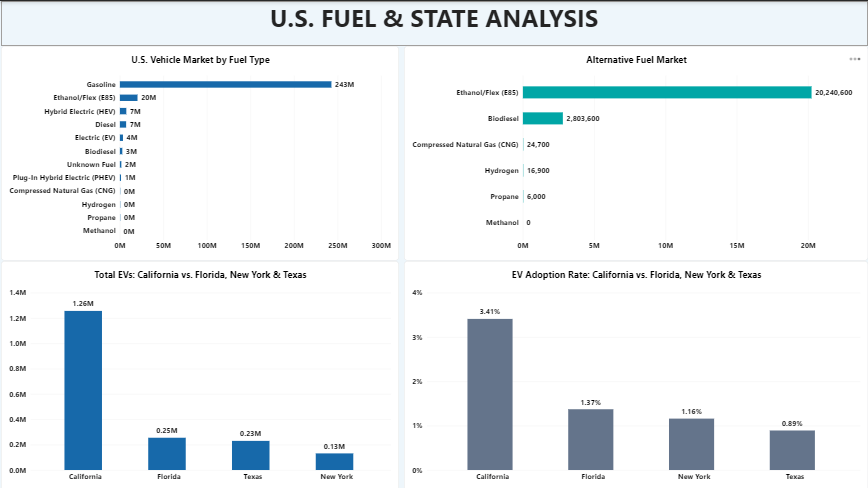

This screenshot's page, from the dashboard's own definition file:
{"tool":"powerbi","page":{"name":"Fuel & State Analysis","canvas":[1920,1080],"ordinal":1},"visuals":[{"type":"clusteredBarChart","title":"U.S. Vehicle Market by Fuel Type","fields":{"Category":["Fuel Analysis.Fuel Type"],"Y":["Sum(Fuel Analysis.Vehicle Count)"]},"box":[9.6,100,876.9,473.1],"z":0},{"type":"clusteredBarChart","title":"Alternative Fuel Market","fields":{"Category":["Fuel Analysis.Fuel Type"],"Y":["Sum(Fuel Analysis.Vehicle Count)"]},"box":[896.2,100,1023.1,473.1],"z":1000},{"type":"clusteredColumnChart","title":"EV Adoption Rate: California vs. Florida, New York & Texas","fields":{"Category":["EV Vehicle Registrations.State"],"Y":["Measure Table.EV Adoption Rate"]},"box":[896.2,573.1,1023.1,507.7],"z":2000},{"type":"clusteredColumnChart","title":"Total EVs: California vs. Florida, New York & Texas","fields":{"Category":["EV Vehicle Registrations.State"],"Y":["Measure Table.Total EVs"]},"box":[9.6,573.1,876.9,507.7],"z":3000},{"type":"textbox","box":[9.6,0,1909.6,100],"z":4000}]}

Visuals, with their boxes in screenshot pixels (x1, y1, x2, y2), scaled from the page's 1920x1080 canvas onto the 868x488 screenshot:
"U.S. Vehicle Market by Fuel Type" clusteredBarChart: x1=4 y1=45 x2=401 y2=259
"Alternative Fuel Market" clusteredBarChart: x1=405 y1=45 x2=867 y2=259
"EV Adoption Rate: California vs. Florida, New York & Texas" clusteredColumnChart: x1=405 y1=259 x2=867 y2=487
"Total EVs: California vs. Florida, New York & Texas" clusteredColumnChart: x1=4 y1=259 x2=401 y2=487
textbox: x1=4 y1=0 x2=867 y2=45
